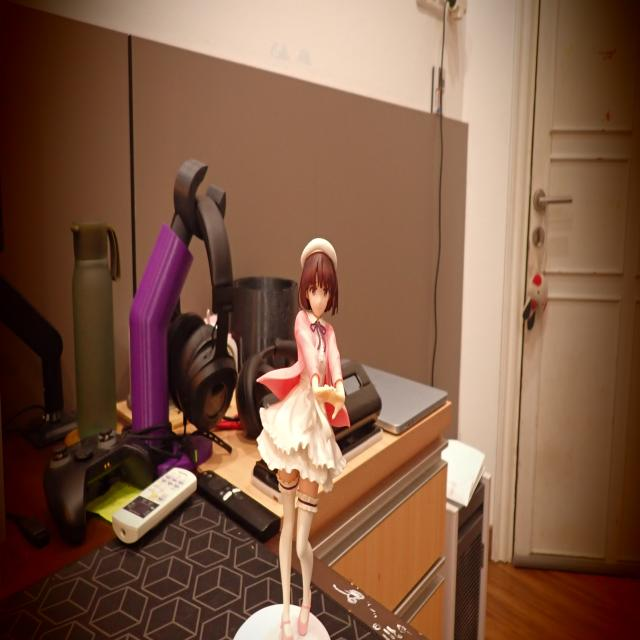My-pink-anime-figure: (258, 239, 349, 639)
